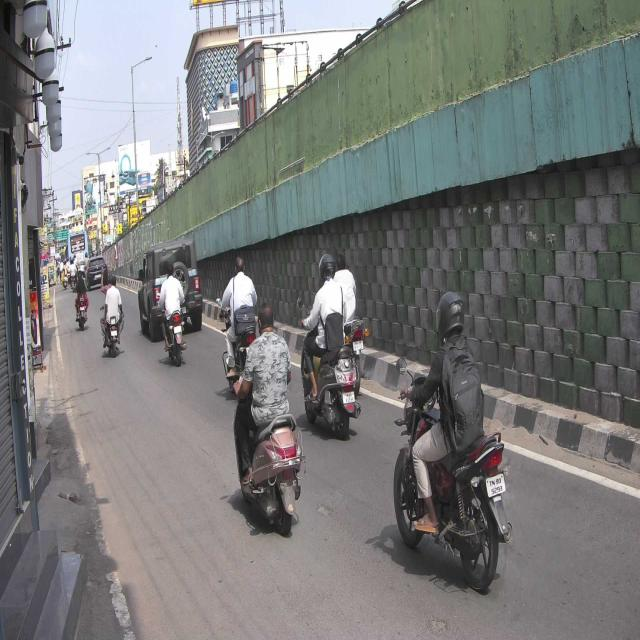single_rider: (391, 290, 512, 594), (234, 303, 306, 536)
